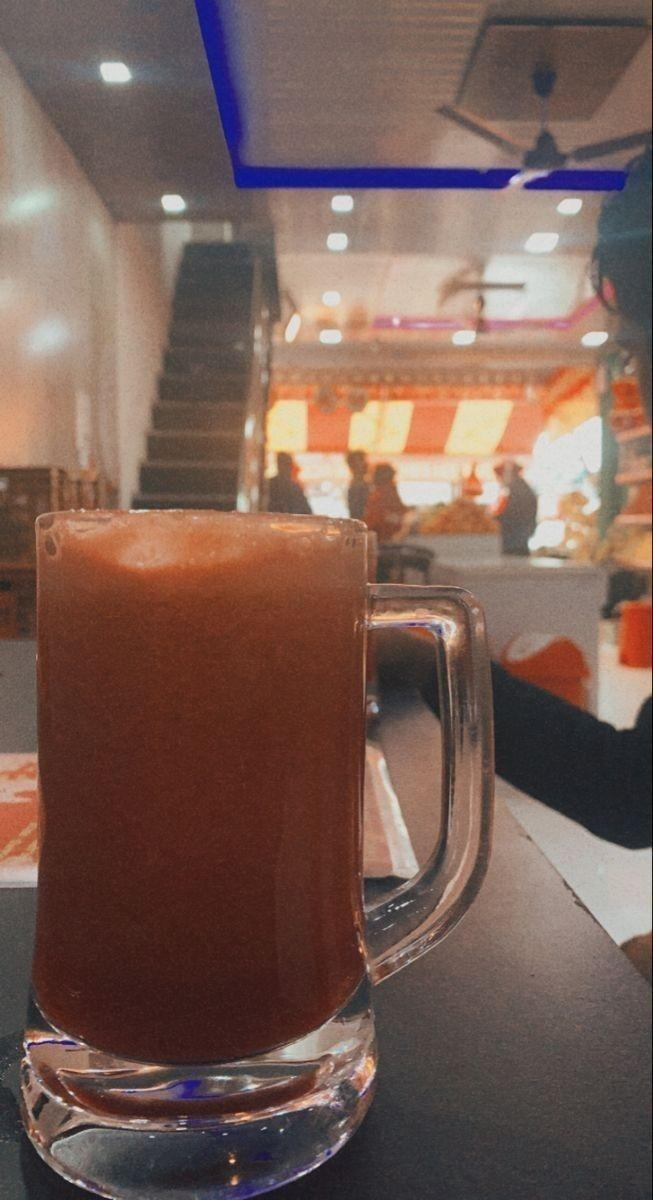glass-mug: (12, 501, 513, 1198)
